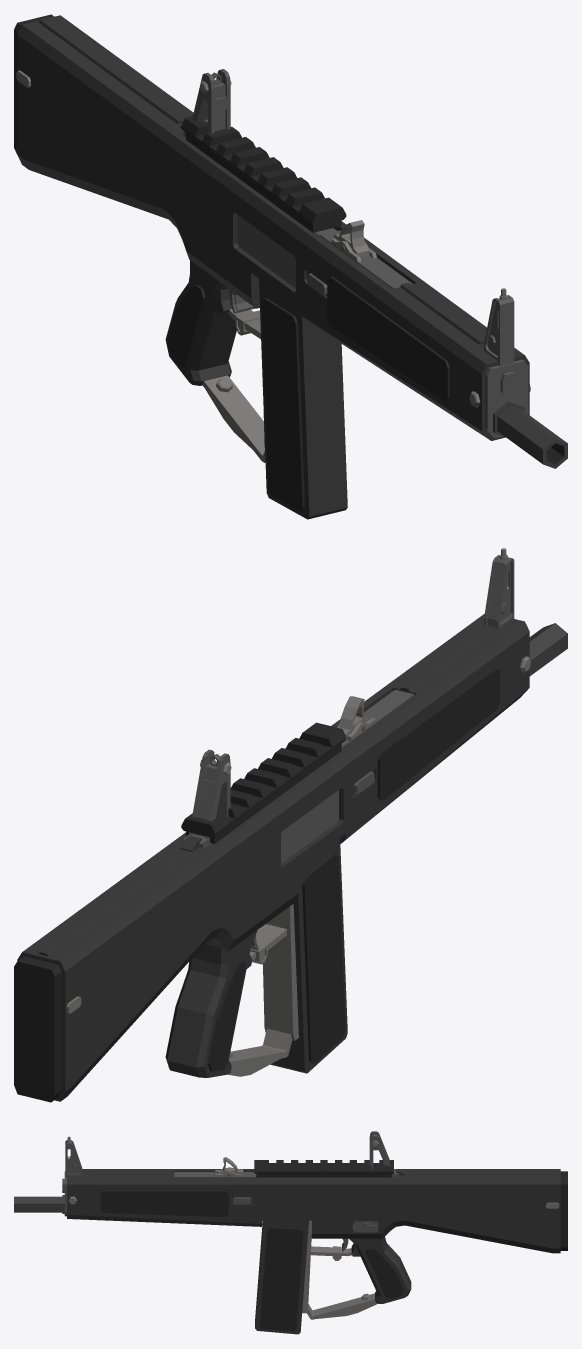
The model's file is ShotGun_A.fbx.
The picture shows the model from 3 angles, top to bottom: view 1: azimuth 30°, elevation 25°; view 2: azimuth 150°, elevation 25°; view 3: azimuth 270°, elevation 25°; orthographic projection. The views are drawn at different scales.
Visible parts, largest first — view 1: ShotGun_A_Receiver, ShotGun_A_Mag, ShotGun_A_Rail, ShotGun_A_Grip, ShotGun_A_Barrel, ShotGun_A_Sight_Back, ShotGun_A_Sight_Forward, ShotGun_A_Bolt; view 2: ShotGun_A_Receiver, ShotGun_A_Mag, ShotGun_A_Grip, ShotGun_A_Rail, ShotGun_A_Sight_Back, ShotGun_A_Sight_Forward, ShotGun_A_Barrel, ShotGun_A_Bolt; view 3: ShotGun_A_Receiver, ShotGun_A_Mag, ShotGun_A_Grip, ShotGun_A_Rail, ShotGun_A_Barrel, ShotGun_A_Sight_Forward, ShotGun_A_Sight_Back.
Boxes of the visible parts, left/top/right/bottom form: ShotGun_A_Receiver: left=14, top=14, right=530, bottom=462; ShotGun_A_Mag: left=259, top=279, right=347, bottom=519; ShotGun_A_Rail: left=181, top=116, right=346, bottom=232; ShotGun_A_Grip: left=165, top=260, right=236, bottom=385; ShotGun_A_Barrel: left=493, top=401, right=567, bottom=468; ShotGun_A_Sight_Back: left=183, top=69, right=231, bottom=136; ShotGun_A_Sight_Forward: left=484, top=288, right=514, bottom=366; ShotGun_A_Bolt: left=334, top=220, right=369, bottom=257; ShotGun_A_Receiver: left=14, top=614, right=530, bottom=1102; ShotGun_A_Mag: left=270, top=838, right=347, bottom=1073; ShotGun_A_Grip: left=165, top=930, right=257, bottom=1077; ShotGun_A_Rail: left=181, top=722, right=346, bottom=843; ShotGun_A_Sight_Back: left=183, top=749, right=231, bottom=848; ShotGun_A_Sight_Forward: left=484, top=548, right=514, bottom=628; ShotGun_A_Barrel: left=529, top=623, right=567, bottom=676; ShotGun_A_Bolt: left=338, top=696, right=369, bottom=736; ShotGun_A_Receiver: left=62, top=1167, right=567, bottom=1319; ShotGun_A_Mag: left=255, top=1220, right=308, bottom=1334; ShotGun_A_Grip: left=349, top=1237, right=411, bottom=1303; ShotGun_A_Rail: left=254, top=1160, right=393, bottom=1177; ShotGun_A_Barrel: left=14, top=1195, right=64, bottom=1213; ShotGun_A_Sight_Forward: left=65, top=1136, right=82, bottom=1177; ShotGun_A_Sight_Back: left=369, top=1131, right=398, bottom=1176.
Size of the model in its own units: 0.0575 by 0.3671 by 0.9425.
